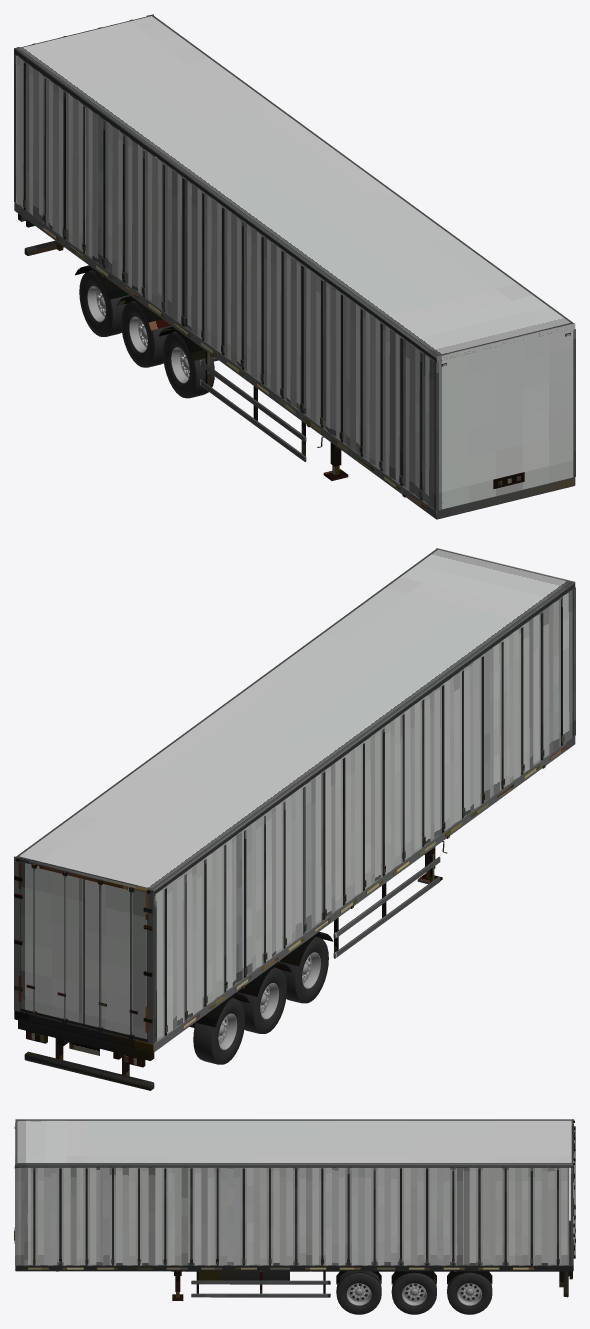
Rendered from auflieger_m.glb.
3 views of the same model, one above another, from view 1: azimuth 30°, elevation 25°; view 2: azimuth 150°, elevation 25°; view 3: azimuth 270°, elevation 25° (orthographic). The views are drawn at different scales.
Visible parts, largest first — view 1: koerper, rad_hr_gummi, rad_hr2_gummi, rad_hr3_gummi; view 2: koerper, rad_hr3_gummi, rad_hr_gummi, rad_hr2_gummi; view 3: koerper, rad_hl_gummi, rad_hl2_gummi, rad_hl3_gummi, rad_hl_metall, rad_hl2_metall, rad_hl3_metall.
Part boxes in pixels (x1=…): koerper: x1=14, y1=14, x2=575, y2=519; rad_hr_gummi: x1=163, y1=331, x2=214, y2=398; rad_hr2_gummi: x1=121, y1=300, x2=170, y2=367; rad_hr3_gummi: x1=79, y1=270, x2=128, y2=336; koerper: x1=14, y1=548, x2=575, y2=1090; rad_hr3_gummi: x1=193, y1=997, x2=245, y2=1064; rad_hr_gummi: x1=279, y1=936, x2=328, y2=1003; rad_hr2_gummi: x1=237, y1=967, x2=286, y2=1033; koerper: x1=14, y1=1119, x2=575, y2=1300; rad_hl_gummi: x1=336, y1=1272, x2=381, y2=1314; rad_hl2_gummi: x1=391, y1=1272, x2=436, y2=1314; rad_hl3_gummi: x1=447, y1=1272, x2=492, y2=1314; rad_hl_metall: x1=346, y1=1283, x2=371, y2=1305; rad_hl2_metall: x1=402, y1=1283, x2=426, y2=1305; rad_hl3_metall: x1=457, y1=1283, x2=481, y2=1305.
Bounding box in the file's own units: 2.58 × 3.98 × 13.31.
Materials: 3 (1 with a texture image).
